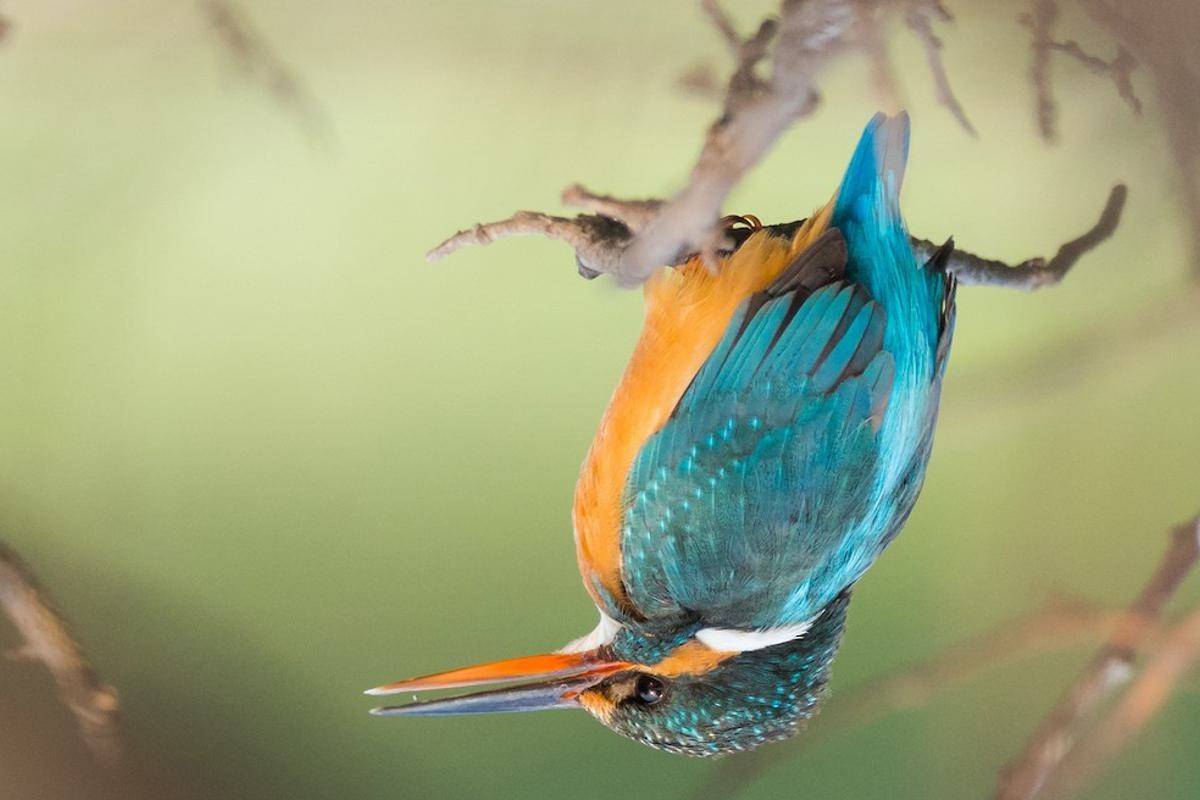kingfisher: (384, 115, 1013, 773)
